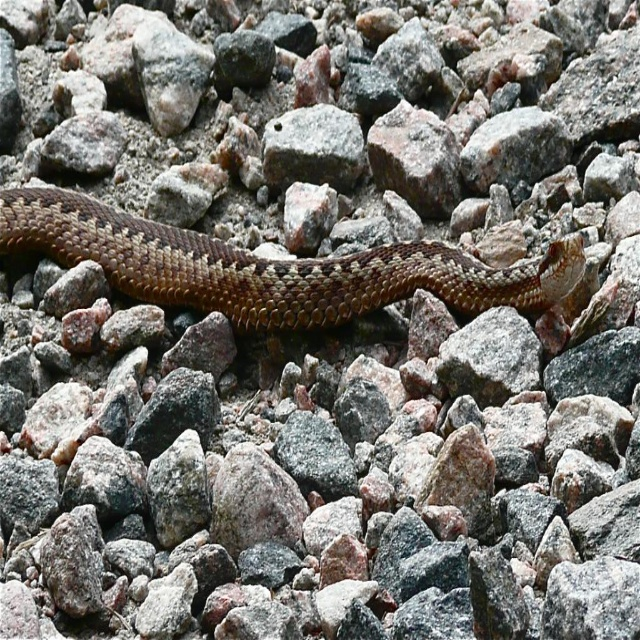Lizard: (0, 176, 605, 389)
